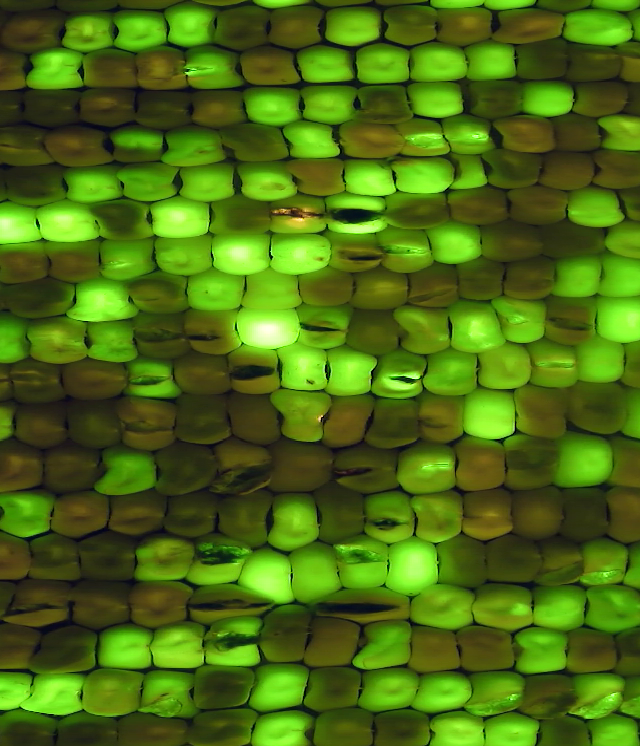fluorescent: (94, 446, 167, 501), (236, 546, 300, 606), (185, 533, 251, 589), (66, 280, 147, 325), (131, 530, 197, 585), (284, 545, 344, 605), (383, 539, 445, 597), (270, 388, 334, 444), (265, 491, 322, 550), (253, 661, 316, 714), (136, 667, 201, 718), (449, 300, 508, 355), (553, 434, 614, 487), (332, 535, 393, 587), (232, 304, 304, 348), (238, 268, 307, 313), (570, 671, 627, 725), (562, 9, 637, 50), (209, 233, 277, 278), (507, 627, 572, 674), (183, 43, 244, 93), (0, 490, 61, 540), (150, 235, 219, 279), (370, 350, 428, 402), (83, 315, 143, 365), (202, 618, 262, 668), (356, 668, 421, 714), (492, 292, 548, 345), (362, 492, 418, 545), (33, 200, 101, 243), (294, 303, 354, 351), (296, 43, 361, 87), (22, 672, 87, 716), (351, 40, 413, 86), (354, 622, 416, 668), (573, 335, 630, 385), (463, 387, 516, 440), (528, 584, 589, 630), (409, 586, 477, 627), (422, 348, 480, 396), (466, 670, 525, 717), (97, 238, 160, 282), (389, 154, 458, 194), (116, 158, 180, 201), (183, 270, 250, 311), (147, 622, 204, 670), (274, 344, 330, 392), (406, 40, 470, 82), (415, 670, 473, 716), (321, 6, 386, 47), (148, 199, 214, 239), (324, 193, 390, 233), (584, 581, 640, 628), (121, 359, 188, 398), (326, 345, 375, 398), (235, 159, 298, 200), (299, 84, 360, 126), (589, 294, 640, 344), (517, 79, 579, 120), (161, 2, 220, 45), (177, 158, 237, 200), (270, 232, 333, 272), (28, 48, 89, 89), (243, 83, 301, 126), (527, 339, 581, 385), (478, 345, 534, 389), (60, 10, 117, 53), (550, 257, 607, 300), (580, 540, 632, 587), (165, 125, 224, 166), (565, 187, 627, 226), (112, 11, 169, 53), (62, 162, 125, 200), (99, 625, 156, 667), (428, 223, 485, 263), (251, 709, 312, 746), (423, 710, 485, 746), (462, 41, 519, 79), (592, 253, 640, 298), (110, 125, 167, 162), (285, 120, 339, 159), (443, 113, 495, 153), (481, 714, 546, 746), (342, 158, 398, 195), (408, 80, 467, 114), (585, 711, 640, 746), (0, 200, 44, 243), (594, 113, 640, 153), (0, 314, 34, 366), (446, 150, 489, 189), (602, 218, 640, 259), (0, 667, 34, 711), (482, 1, 541, 12), (426, 1, 486, 11), (255, 1, 311, 11), (587, 1, 640, 11)
nonfluorescent: (265, 439, 344, 496), (206, 437, 278, 499), (219, 389, 287, 448), (30, 625, 102, 680), (565, 376, 631, 436), (111, 396, 180, 452), (499, 433, 566, 490), (150, 441, 218, 496), (39, 443, 106, 498), (312, 481, 370, 544), (211, 491, 276, 547), (83, 668, 150, 721), (315, 586, 413, 622), (334, 445, 409, 492), (62, 400, 131, 451), (169, 392, 235, 445), (319, 391, 378, 450), (48, 491, 117, 541), (452, 437, 513, 492), (505, 487, 569, 539), (512, 384, 571, 440), (74, 532, 140, 582), (68, 581, 135, 630), (125, 580, 193, 627), (42, 125, 115, 168), (192, 665, 260, 711), (260, 606, 311, 667), (452, 626, 519, 672), (0, 281, 79, 320), (463, 490, 519, 545), (189, 584, 270, 622), (364, 396, 422, 449), (11, 577, 71, 628), (558, 481, 611, 538), (541, 294, 599, 346), (230, 342, 284, 397), (308, 613, 361, 669), (522, 673, 581, 723), (408, 623, 464, 675), (62, 360, 134, 400), (13, 400, 70, 450), (370, 706, 441, 746), (178, 309, 247, 350), (416, 391, 468, 445), (303, 668, 371, 709), (27, 534, 85, 582), (537, 220, 610, 258), (107, 492, 170, 536), (435, 539, 490, 589), (4, 9, 65, 54), (494, 7, 566, 45), (385, 191, 455, 230), (163, 491, 221, 538), (221, 125, 292, 163), (487, 533, 542, 582), (25, 87, 86, 131), (187, 709, 259, 746), (564, 40, 623, 85), (0, 166, 68, 205), (481, 147, 544, 189), (188, 88, 251, 130), (263, 5, 326, 47), (567, 628, 621, 677), (115, 713, 195, 746), (538, 535, 587, 588), (170, 353, 233, 394), (132, 314, 192, 357), (133, 87, 193, 130), (480, 223, 546, 262), (511, 41, 572, 83), (511, 184, 572, 226), (287, 156, 349, 197), (242, 46, 304, 87), (448, 187, 513, 226), (215, 5, 270, 51), (345, 309, 405, 351), (406, 268, 464, 311), (93, 202, 155, 242), (129, 271, 188, 313), (0, 440, 45, 495), (340, 122, 403, 161), (76, 87, 137, 127), (0, 126, 55, 170), (52, 711, 121, 746), (467, 79, 527, 119), (540, 151, 600, 191), (381, 5, 440, 45), (135, 50, 191, 92), (45, 239, 101, 281), (505, 256, 557, 301), (494, 116, 555, 154), (460, 257, 509, 304), (357, 84, 413, 125), (9, 360, 65, 401), (0, 709, 62, 746), (211, 197, 271, 235), (435, 5, 493, 44), (572, 80, 630, 119), (604, 483, 640, 545), (352, 272, 412, 309), (549, 114, 605, 153), (82, 50, 140, 87), (0, 243, 55, 282), (329, 233, 380, 274), (298, 269, 354, 306), (593, 148, 640, 191), (313, 713, 374, 746), (536, 713, 594, 746), (607, 433, 640, 491), (0, 623, 37, 671), (0, 529, 31, 580), (0, 48, 30, 92), (114, 1, 174, 12), (56, 1, 121, 11), (533, 1, 593, 10), (0, 1, 59, 10), (312, 1, 376, 8), (193, 1, 246, 6), (375, 1, 429, 5)
